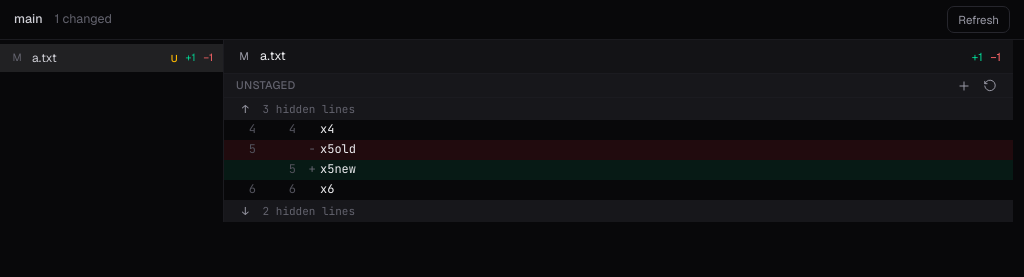
Test: DiffView › reveals hidden context lines via the expander controls
The width and height of the screenshot is (1024, 277).
Expected: the element with test id "diff-scroll" is shown, [224,40,1023,222]
Expected: the text "x1" is not shown
Step 1. Click the button named "expand up" → (245, 109), box [236,101,255,117]
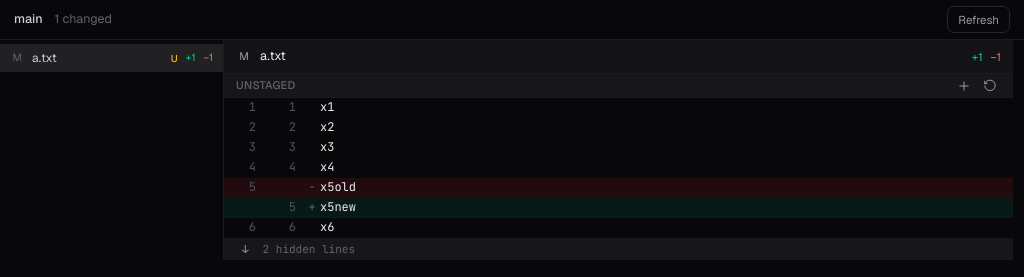
Expected: the text "x1" is shown, [320,99,334,115]
Expected: the text "x3" is shown, [320,139,334,155]
